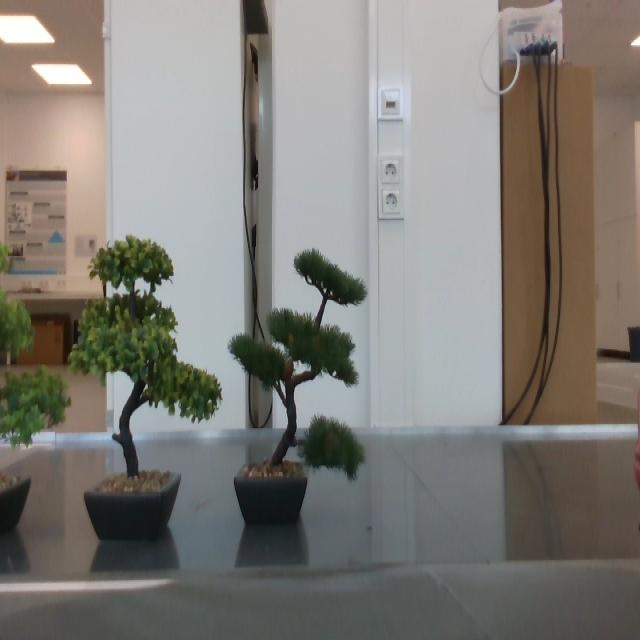potted plant: (70, 230, 223, 538), (227, 249, 370, 527), (1, 244, 68, 534)
